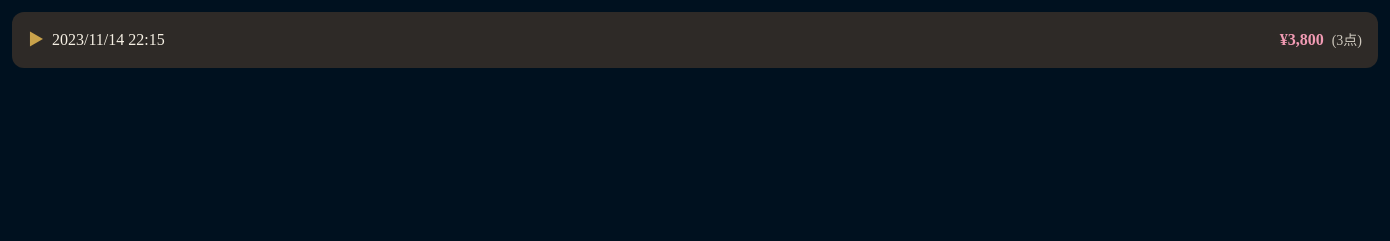
OrderRow(開く) › 押すと、画像・名前・円単価×数量・小計が見える
Click the button "▶ 2023/11/14 22:15 ¥3,800(3点)": (108, 40) [12,12,1378,68]
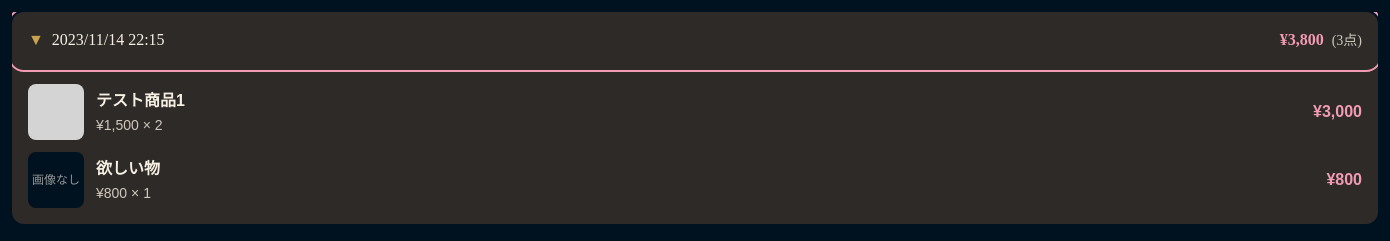
Result: the button "▼ 2023/11/14 22:15 ¥3,800(3点)" is expanded at [12,12,1378,68]
Result: the text "テスト商品1" is shown at [96,92,185,109]
Result: the text "¥1,500 × 2" is shown at [96,117,163,133]
